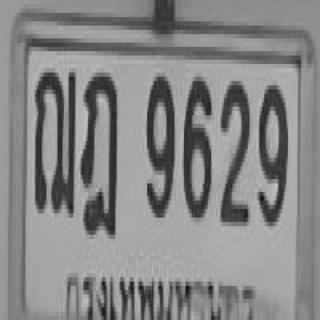A12: (33, 64, 76, 213)
A14: (79, 68, 116, 235)
N02: (219, 77, 248, 222)
N06: (182, 72, 211, 218)
N09: (256, 81, 286, 222), (146, 73, 173, 213)
